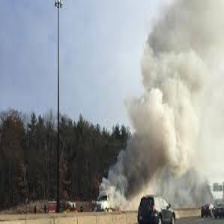smoke: (102, 2, 222, 201)
